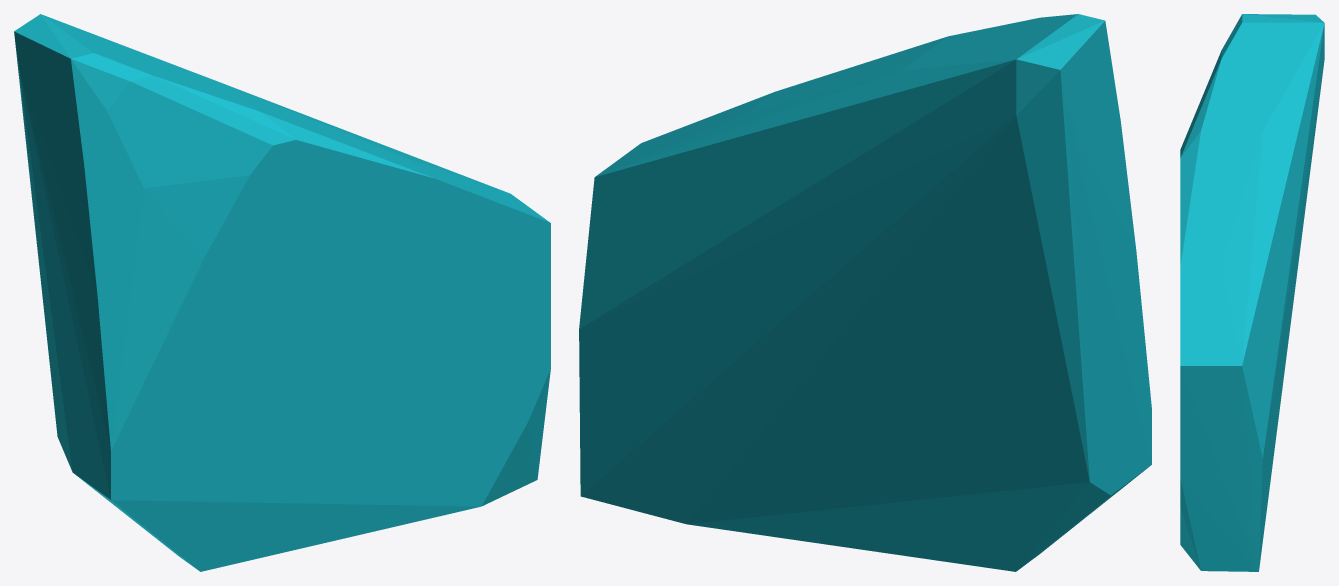
Rendered from mouth_cup009.obj.
The picture shows the model from 3 angles, left to right: view 1: azimuth 30°, elevation 25°; view 2: azimuth 150°, elevation 25°; view 3: azimuth 270°, elevation 25°; orthographic projection. The views are drawn at different scales.
Parts seen in each view (by area): view 1: mouth_cup009; view 2: mouth_cup009; view 3: mouth_cup009.
Boxes of the visible parts, left/top/right/bottom form: mouth_cup009: left=14, top=14, right=550, bottom=571; mouth_cup009: left=579, top=14, right=1151, bottom=571; mouth_cup009: left=1180, top=14, right=1324, bottom=571.
Size of the model in its own units: 0.1165 by 0.126 by 0.0419.
